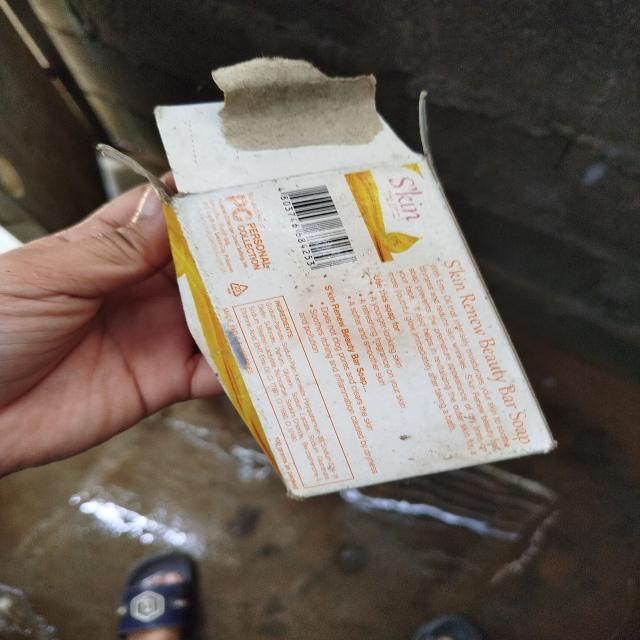paper: (85, 48, 588, 511)
